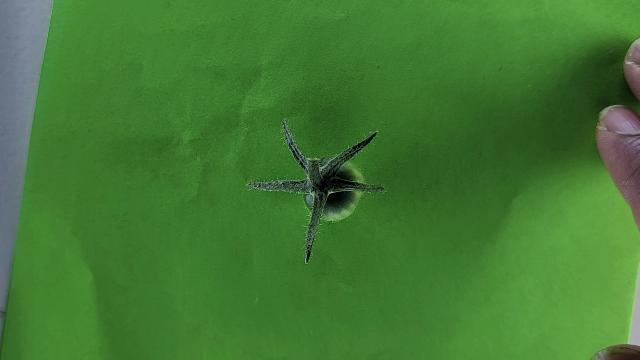Fruit Maturation: (308, 162, 364, 221)
